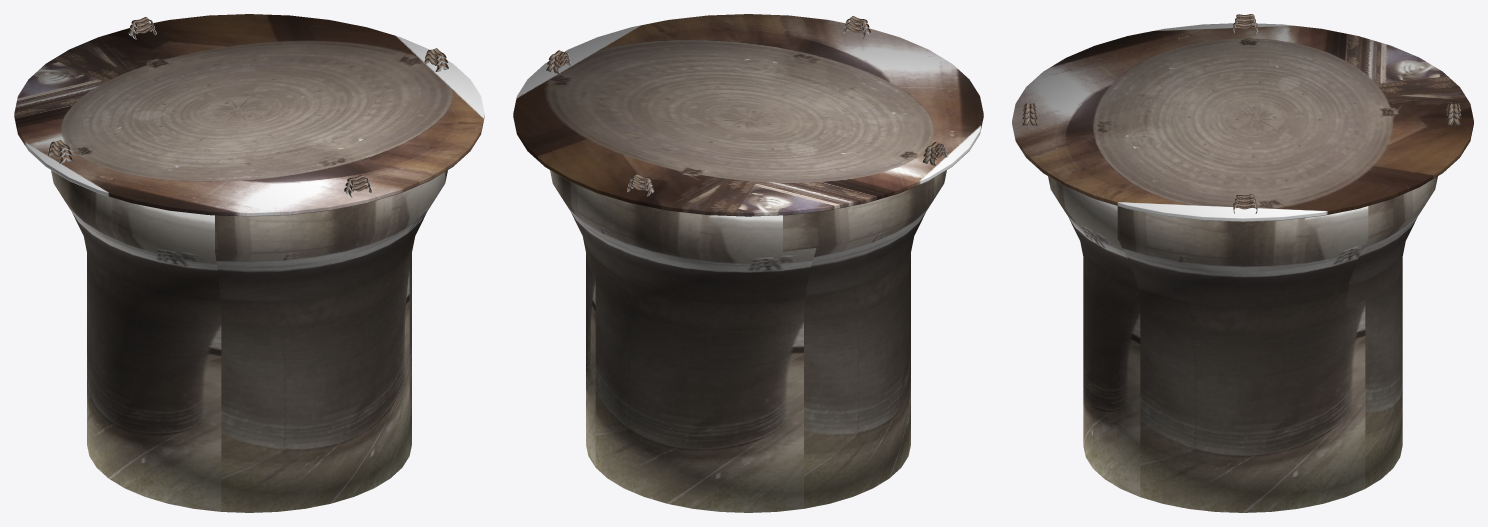
3 renders of one model, left to right at view 1: azimuth 30°, elevation 25°; view 2: azimuth 150°, elevation 25°; view 3: azimuth 270°, elevation 25°, orthographic.
Visible parts, largest first — view 1: Cylinder01, Cylinder02; view 2: Cylinder01, Cylinder02; view 3: Cylinder01, Cylinder02.
Boxes of the visible parts, bbox=[...] form: Cylinder01: bbox=[51, 170, 447, 512]; Cylinder02: bbox=[14, 14, 484, 216]; Cylinder01: bbox=[550, 170, 946, 512]; Cylinder02: bbox=[513, 14, 983, 216]; Cylinder01: bbox=[1048, 176, 1437, 512]; Cylinder02: bbox=[1012, 23, 1473, 221].
Size of the model in its own units: 102 by 82.56 by 102.
